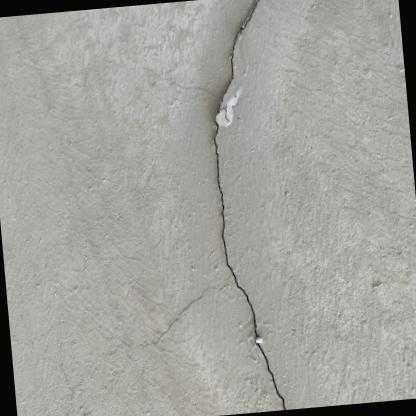crack: (213, 0, 286, 410)
